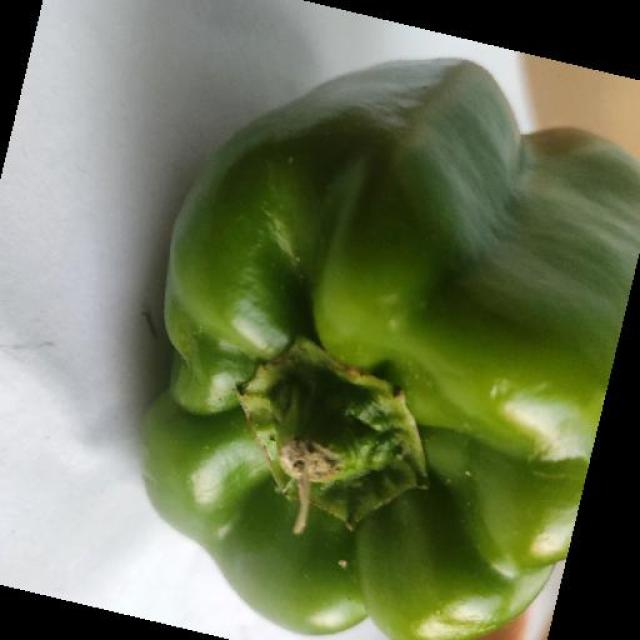Fresh_Capsicum: (183, 46, 640, 614)
